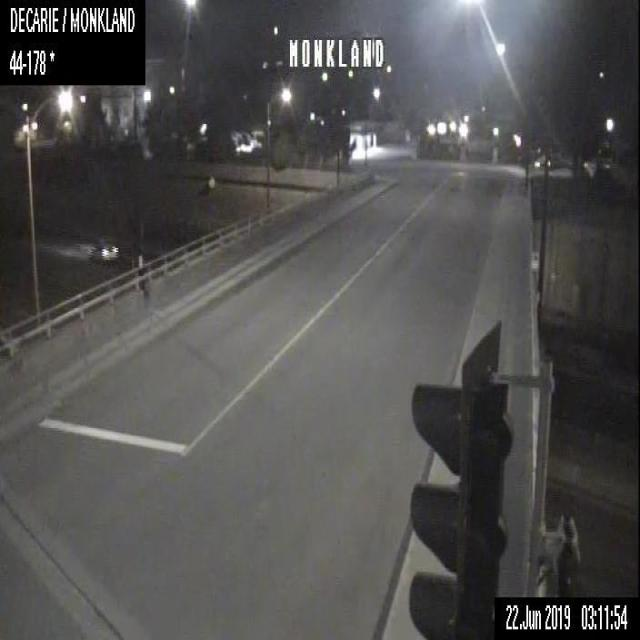vehicle: (88, 240, 122, 261)
